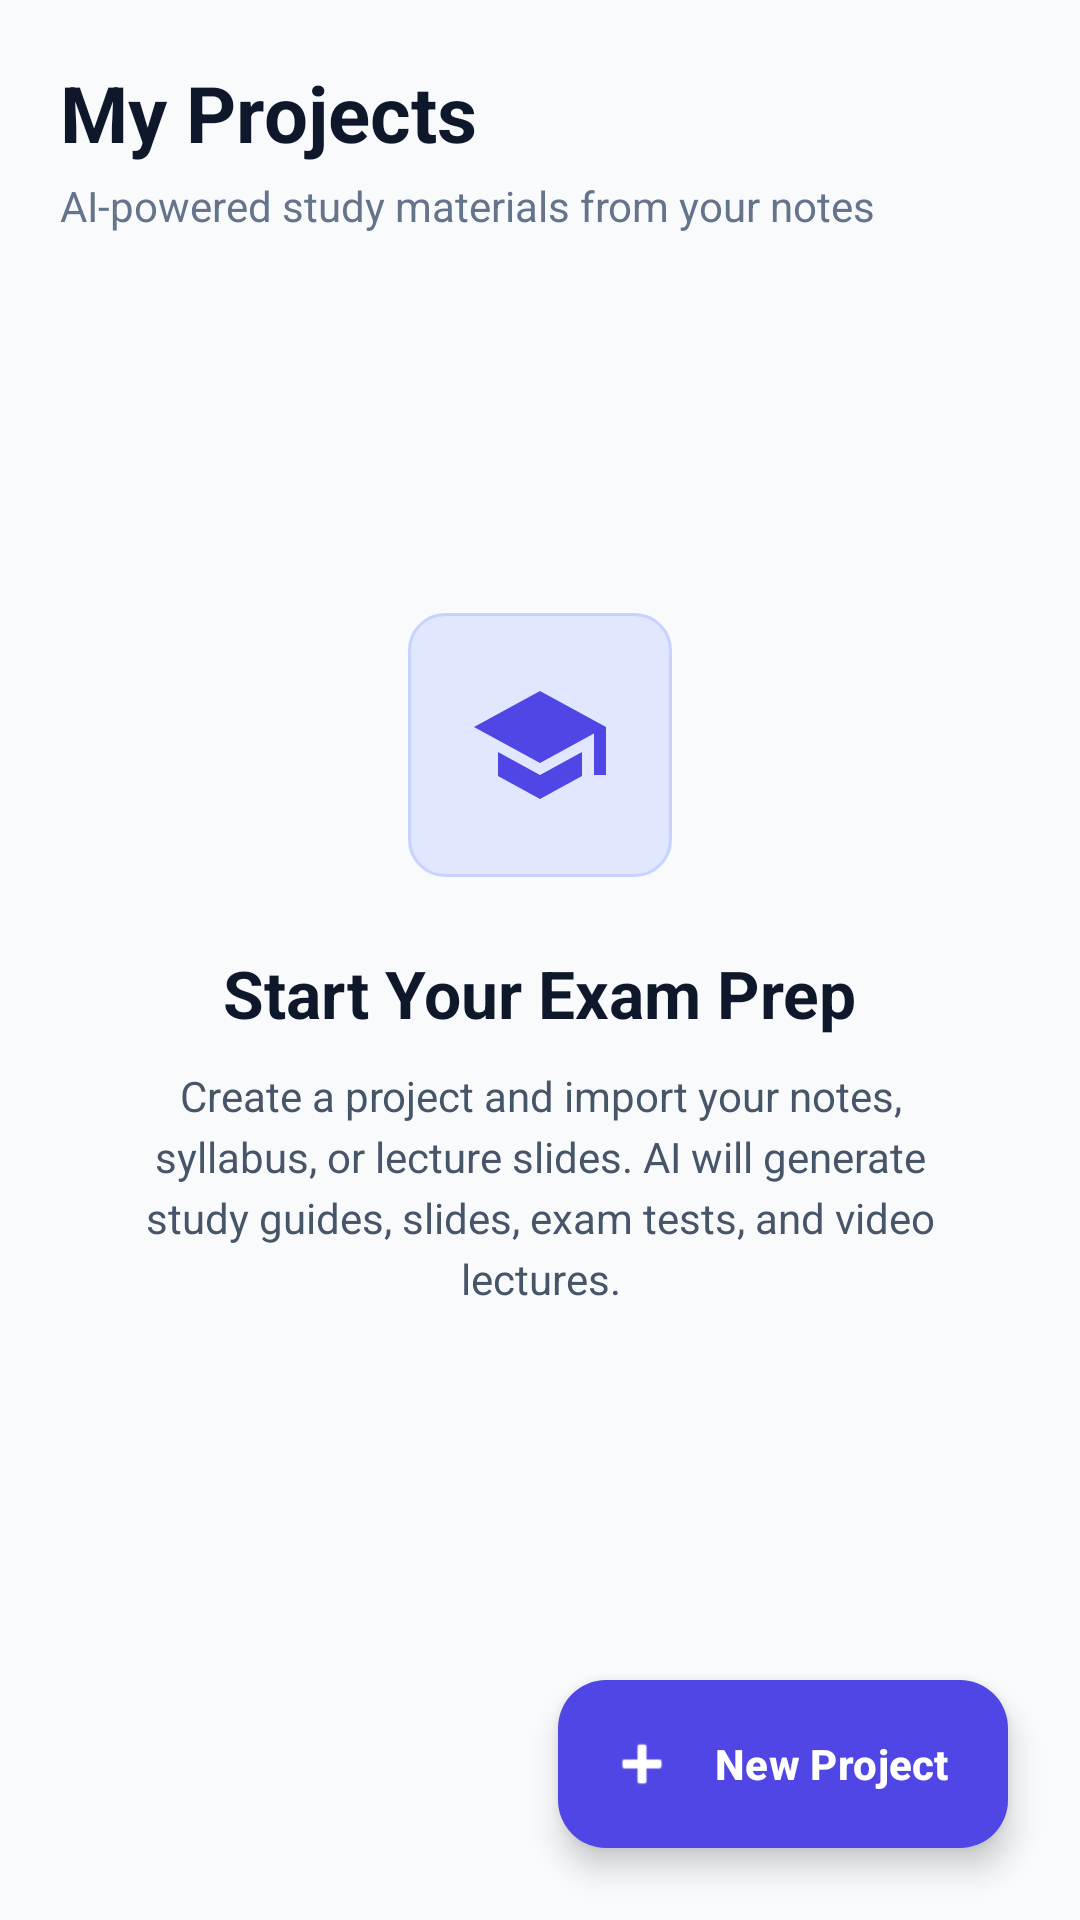

Where to tap for icons on this 1080 x 1920 app screen, as (x,y):
academic cap: (540,745)
